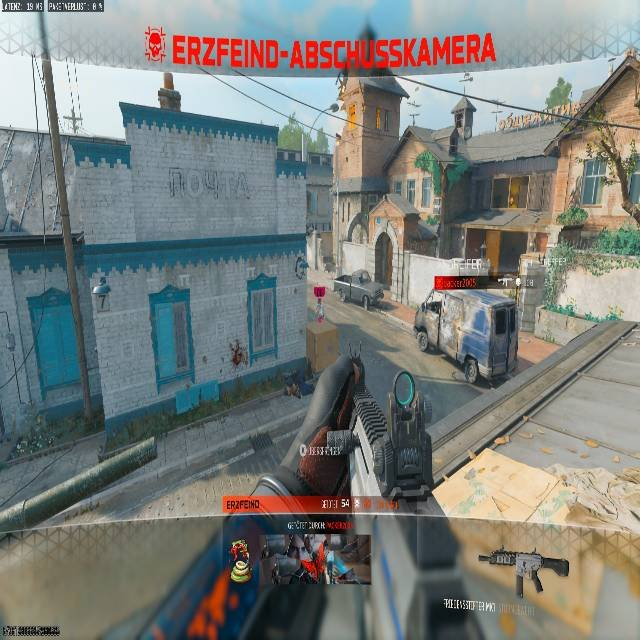player: (295, 254, 308, 280)
